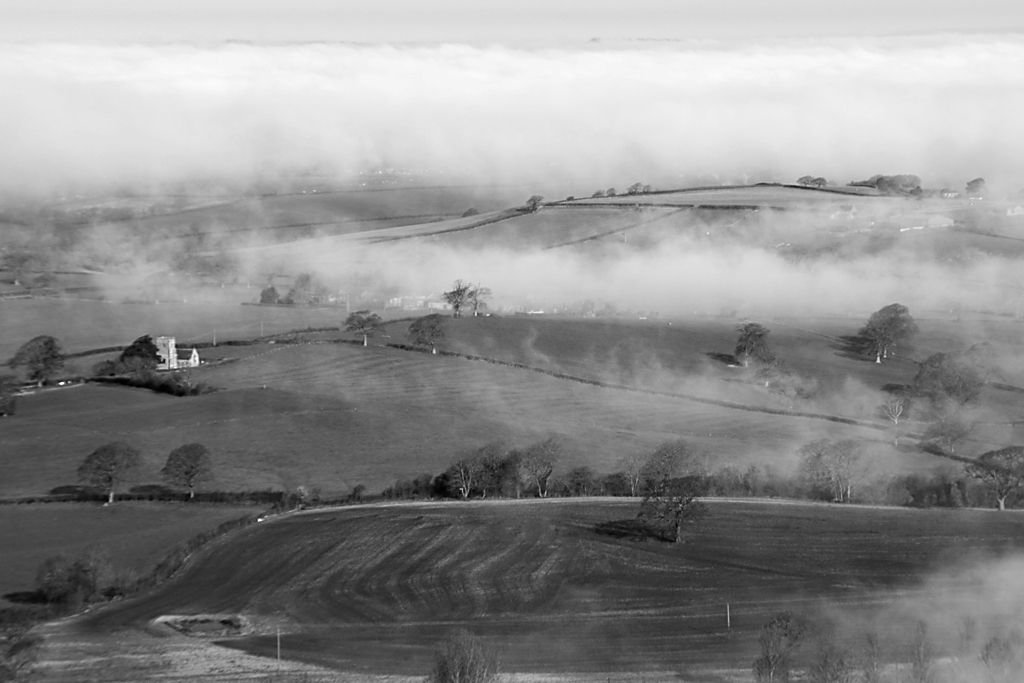Tree: (634, 442, 711, 550), (858, 288, 931, 372), (908, 352, 983, 424), (421, 618, 504, 682), (913, 403, 997, 456), (78, 437, 147, 497), (513, 431, 576, 496), (750, 611, 807, 682), (458, 436, 524, 496), (965, 443, 1022, 509), (156, 443, 216, 501), (0, 620, 53, 682), (830, 436, 878, 502), (10, 333, 67, 388), (796, 440, 840, 501), (78, 542, 119, 603), (435, 452, 488, 499), (947, 613, 981, 682), (30, 551, 78, 597), (51, 567, 94, 618), (849, 629, 890, 682), (734, 319, 780, 366), (0, 235, 42, 286), (341, 303, 389, 347), (901, 620, 935, 682), (963, 341, 1004, 388), (149, 367, 206, 400), (408, 310, 451, 352), (924, 457, 961, 504), (494, 450, 531, 496), (983, 634, 1016, 682), (613, 450, 647, 496), (807, 642, 846, 682), (743, 460, 782, 497), (874, 391, 913, 426), (286, 271, 330, 302), (110, 352, 151, 383), (122, 331, 167, 359), (437, 279, 469, 316), (206, 249, 236, 286), (465, 282, 494, 319), (567, 464, 597, 496), (714, 464, 744, 496), (30, 272, 67, 297), (405, 472, 430, 501), (883, 420, 912, 444), (961, 175, 990, 199), (0, 377, 17, 416), (887, 172, 920, 186), (846, 173, 878, 186), (261, 284, 279, 307), (808, 177, 828, 191), (796, 173, 817, 186), (462, 202, 480, 217), (910, 186, 926, 201), (625, 180, 641, 193), (531, 194, 542, 208), (593, 186, 602, 199), (604, 186, 615, 196), (641, 180, 650, 191)
